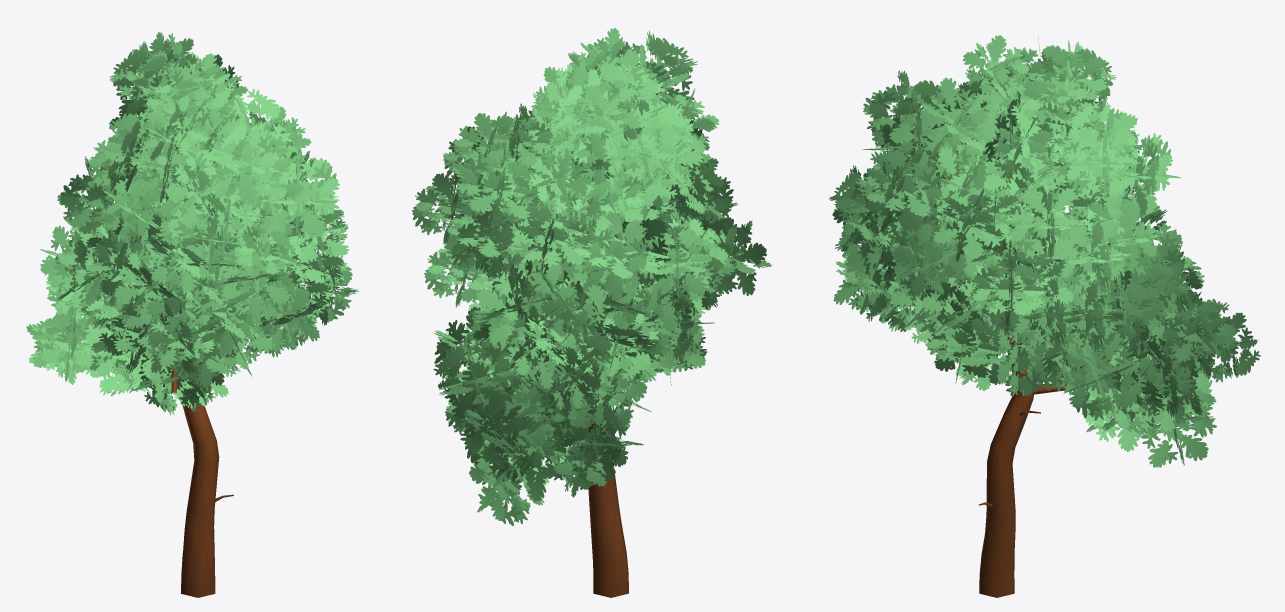
File: STOak2.glb
3 views of the same model, side by side, from view 1: azimuth 30°, elevation 25°; view 2: azimuth 150°, elevation 25°; view 3: azimuth 270°, elevation 25° (orthographic). The views are drawn at different scales.
Visible parts, largest first — view 1: Leaf.003; view 2: Leaf.003; view 3: Leaf.003.
Part boxes in pixels (x1,y1,x2,y2): Leaf.003: (26, 32, 358, 597); Leaf.003: (412, 28, 771, 597); Leaf.003: (829, 34, 1260, 597).
Bounding box in the file's own units: 10.58 × 20.28 × 14.93.
2 materials, 2 textured.
